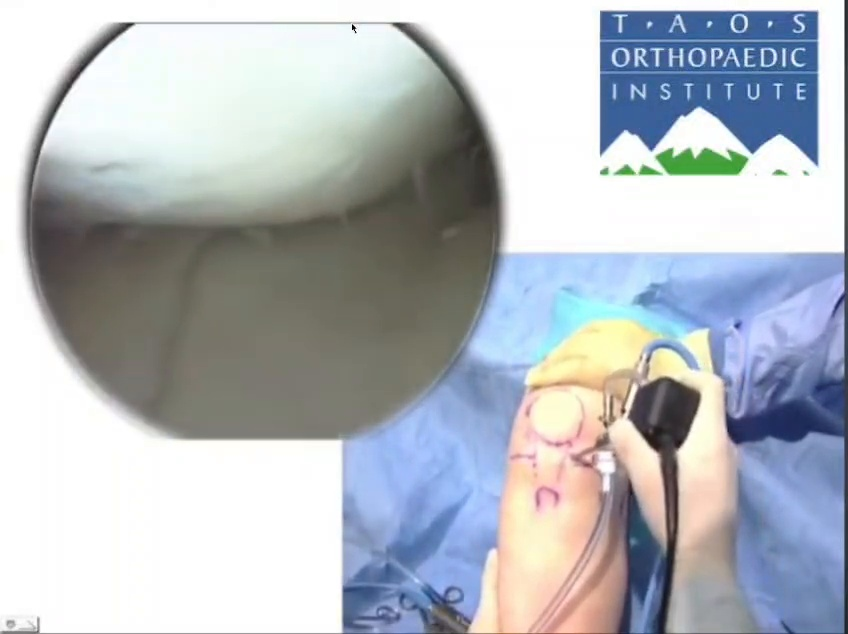arthroscope: (36, 0, 424, 233)
